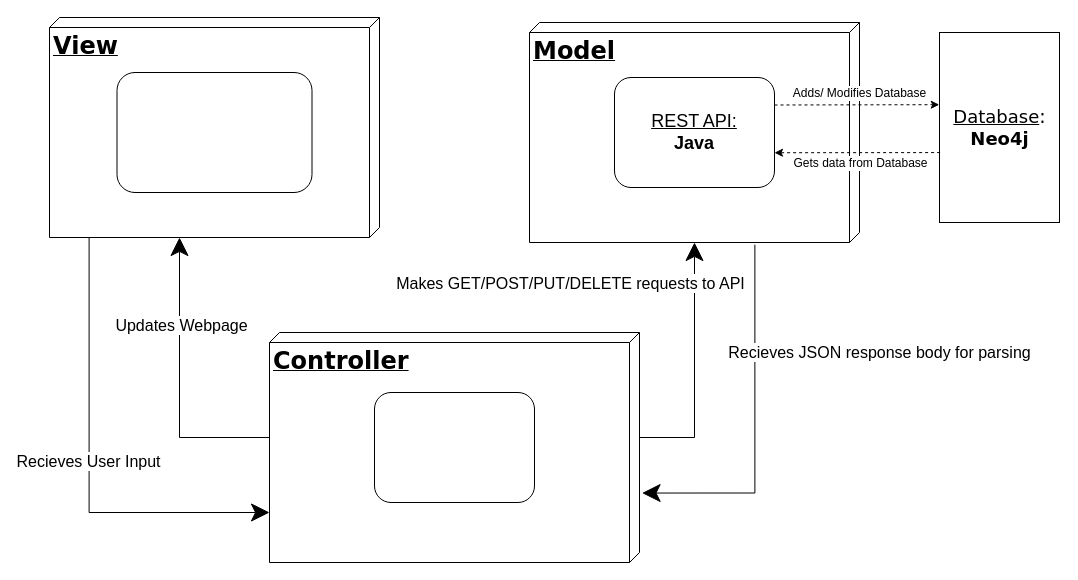
The diagram is 1078 pixels wide and 580 high, and some of its shapes have lost their labels. Here are the shapes that lost their labels. From the top down, the box of each, then its label:
(116, 72, 312, 192): User Interface/ Webpage : HTML, CSS
(374, 392, 534, 502): JavaScript
